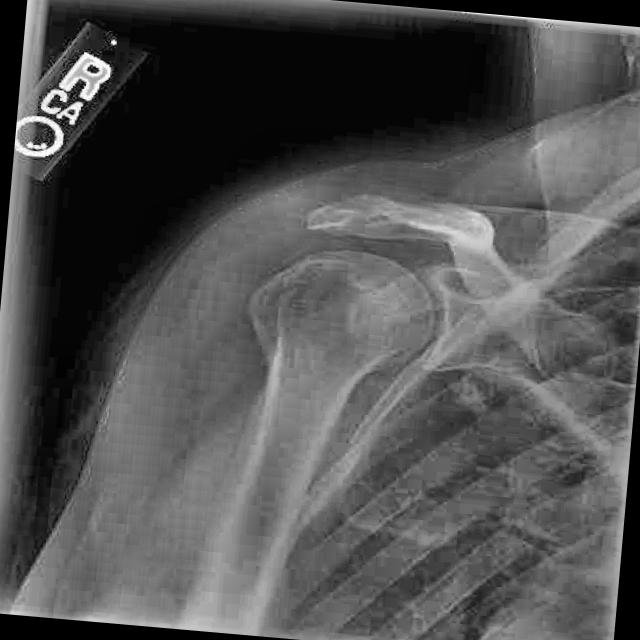shoulder fracture: (328, 198, 435, 253)
